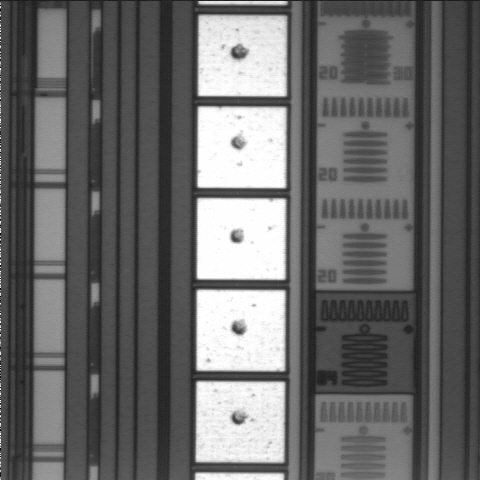pad: (197, 198, 286, 280), (196, 381, 285, 463), (198, 15, 287, 96), (197, 107, 286, 188), (197, 290, 285, 371)
